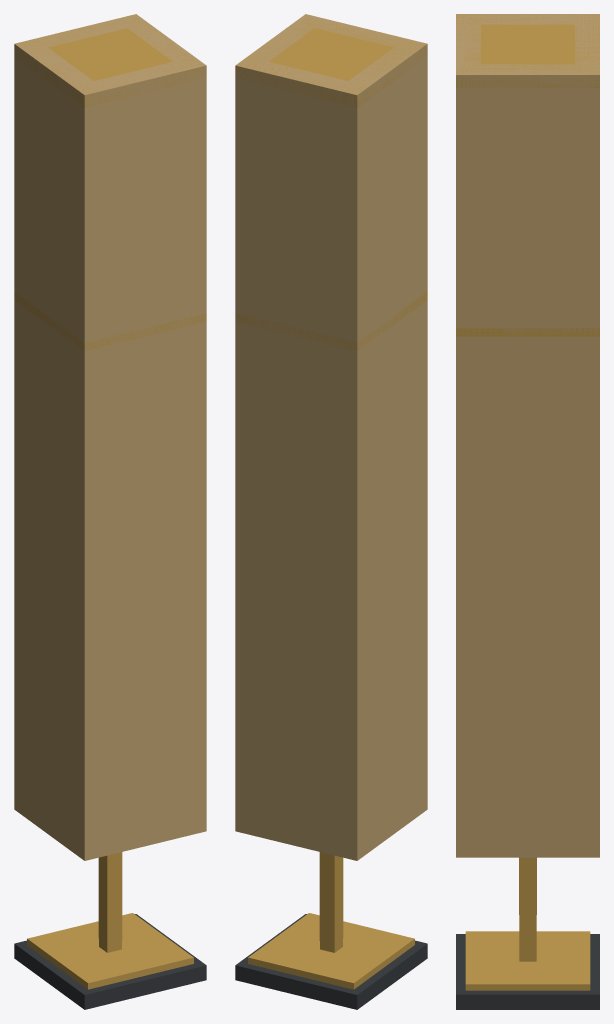
Rendered from lampSquareFloor.glb.
3 renders of one model, left to right at view 1: azimuth 30°, elevation 25°; view 2: azimuth 150°, elevation 25°; view 3: azimuth 270°, elevation 25°, orthographic. The views are drawn at different scales.
Parts seen in each view (by area): view 1: lampSquareFloor(Clone); view 2: lampSquareFloor(Clone); view 3: lampSquareFloor(Clone).
Part boxes in pixels (x1,y1,x2,y2): lampSquareFloor(Clone): [14, 14, 206, 1009]; lampSquareFloor(Clone): [235, 14, 427, 1009]; lampSquareFloor(Clone): [456, 14, 599, 1009].
Size of the model in its own units: 0.12 by 0.86 by 0.12.
